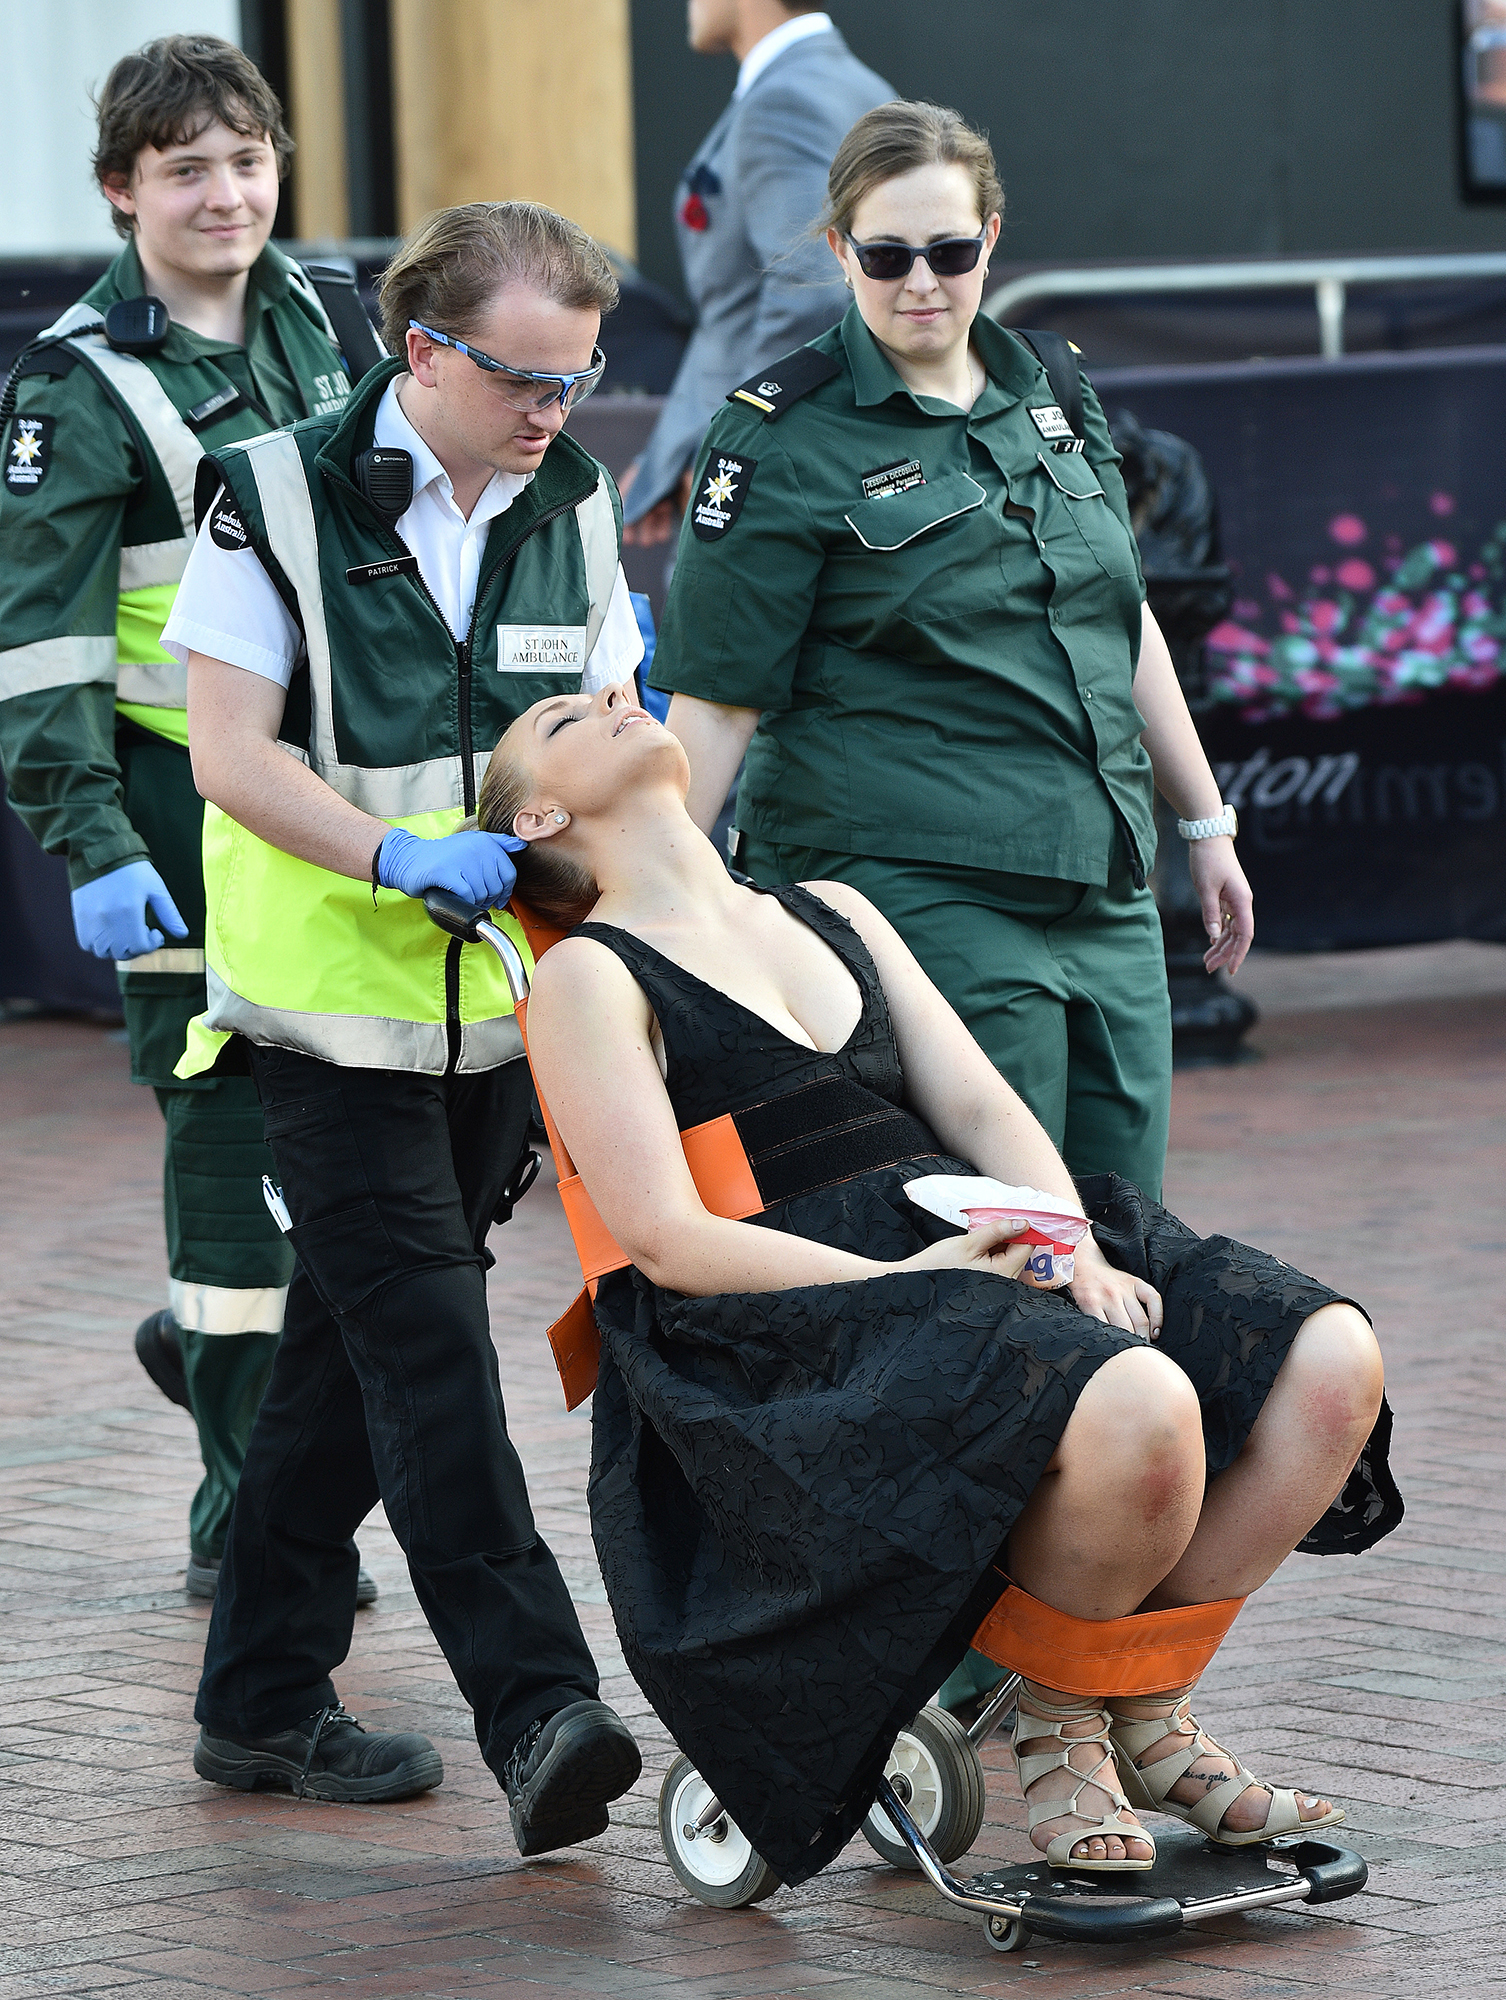Person: (479, 689, 1390, 1874), (162, 200, 639, 1857), (667, 100, 1260, 1193), (1, 31, 379, 1597)
